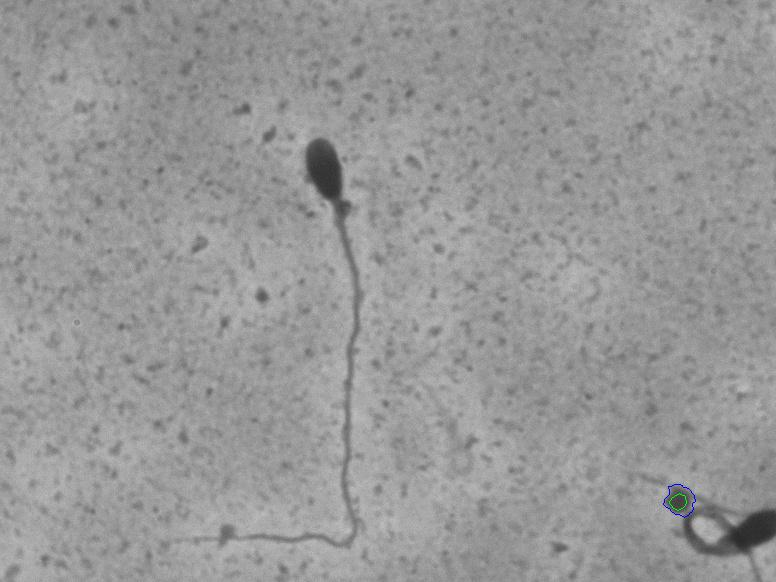Normal: (136, 104, 444, 578)
